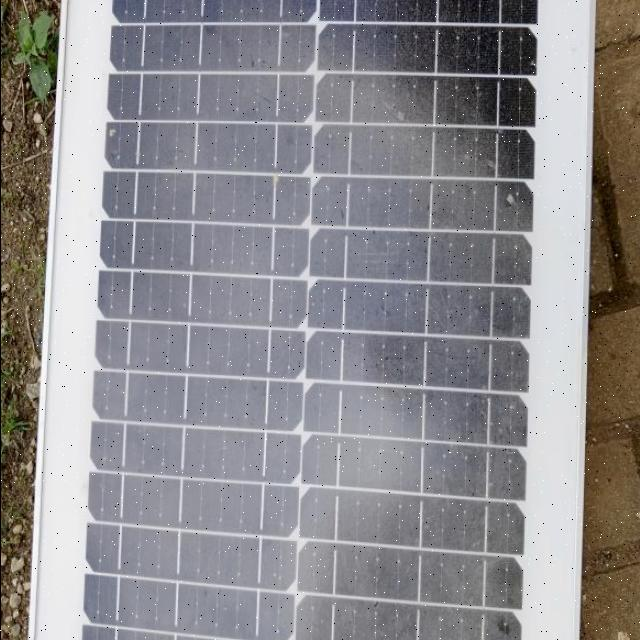Anomaly Solar Panel: (82, 1, 534, 640)
Surface Contaminant: (81, 1, 534, 640)
